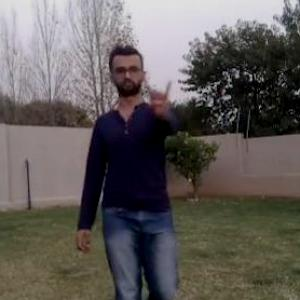takeoff-hand: (143, 66, 176, 114)
